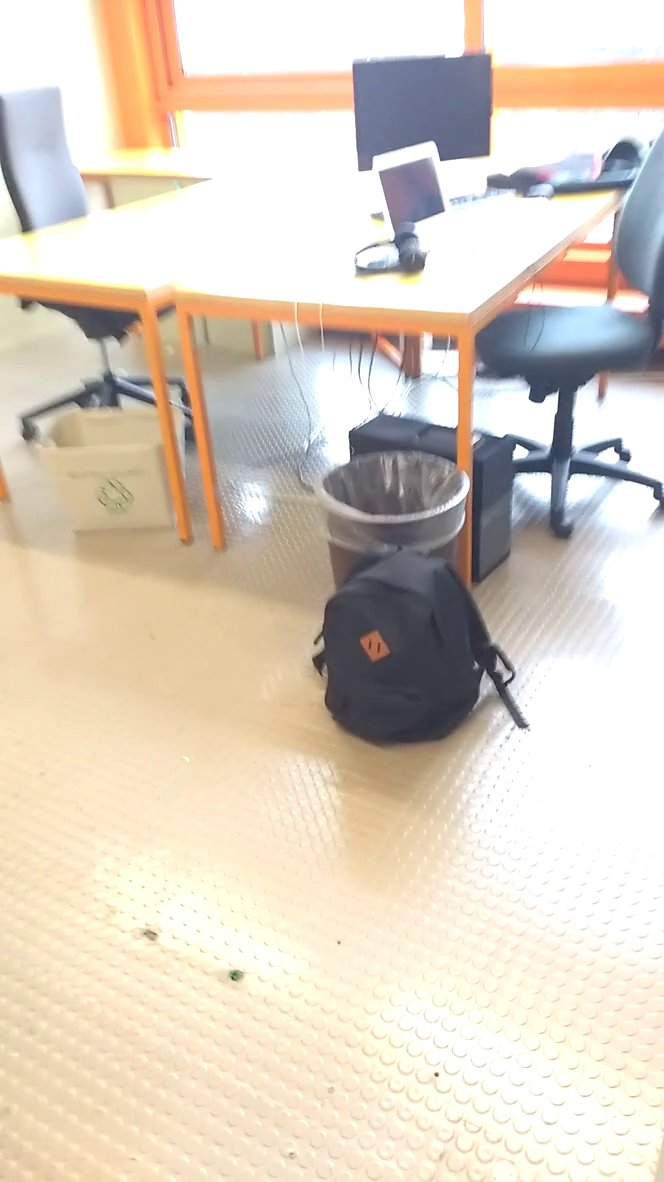bag: (308, 542, 538, 752)
bin: (303, 442, 476, 562)
box: (29, 408, 194, 534)
chair: (2, 81, 182, 407)
laptop: (360, 135, 525, 272)
